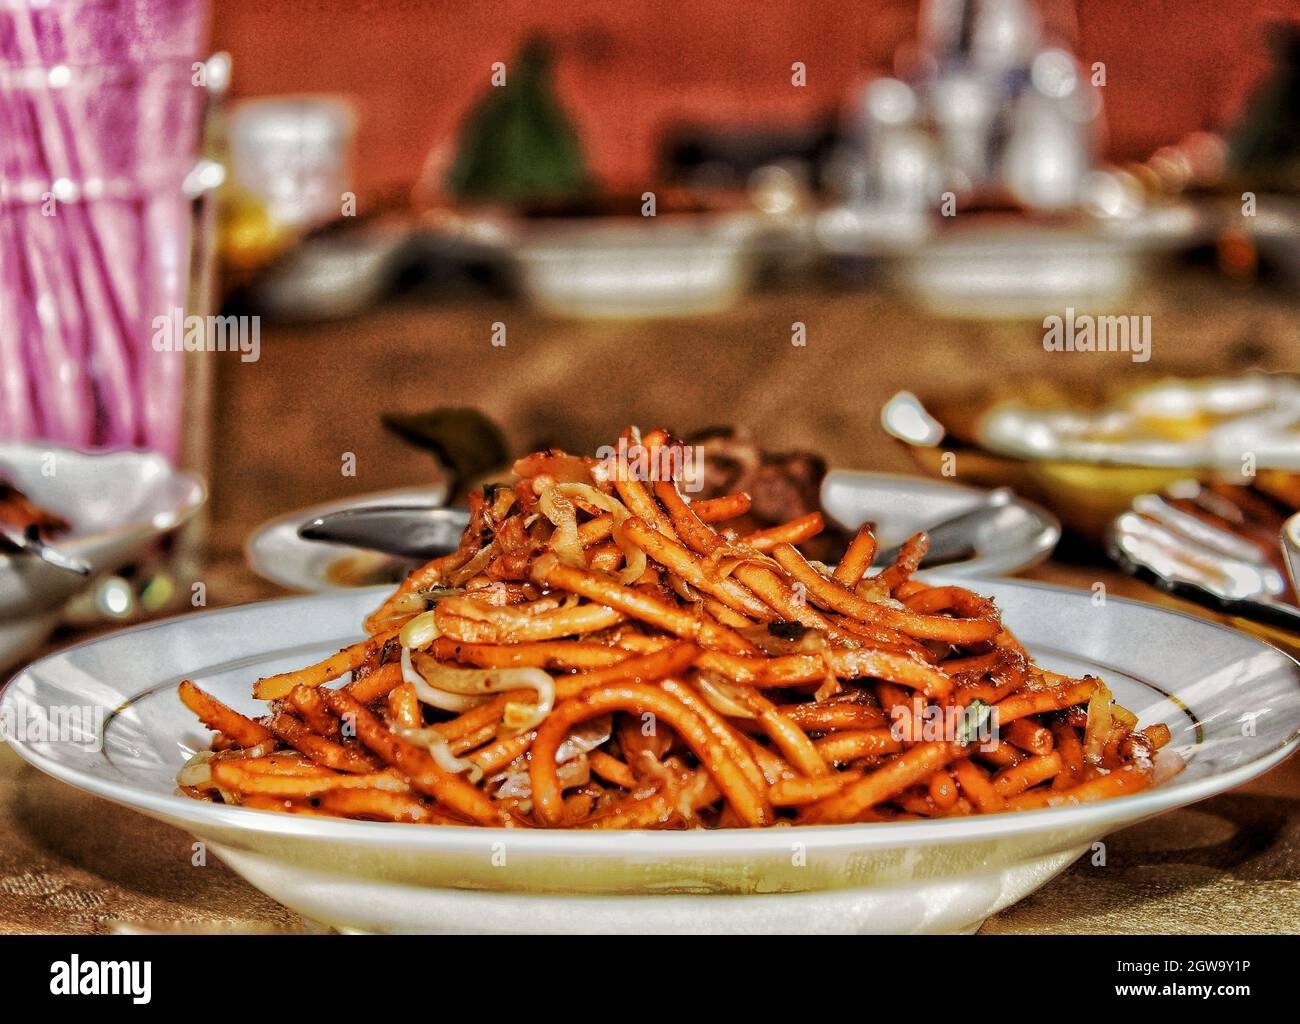mie_aceh: (181, 426, 1193, 827)
